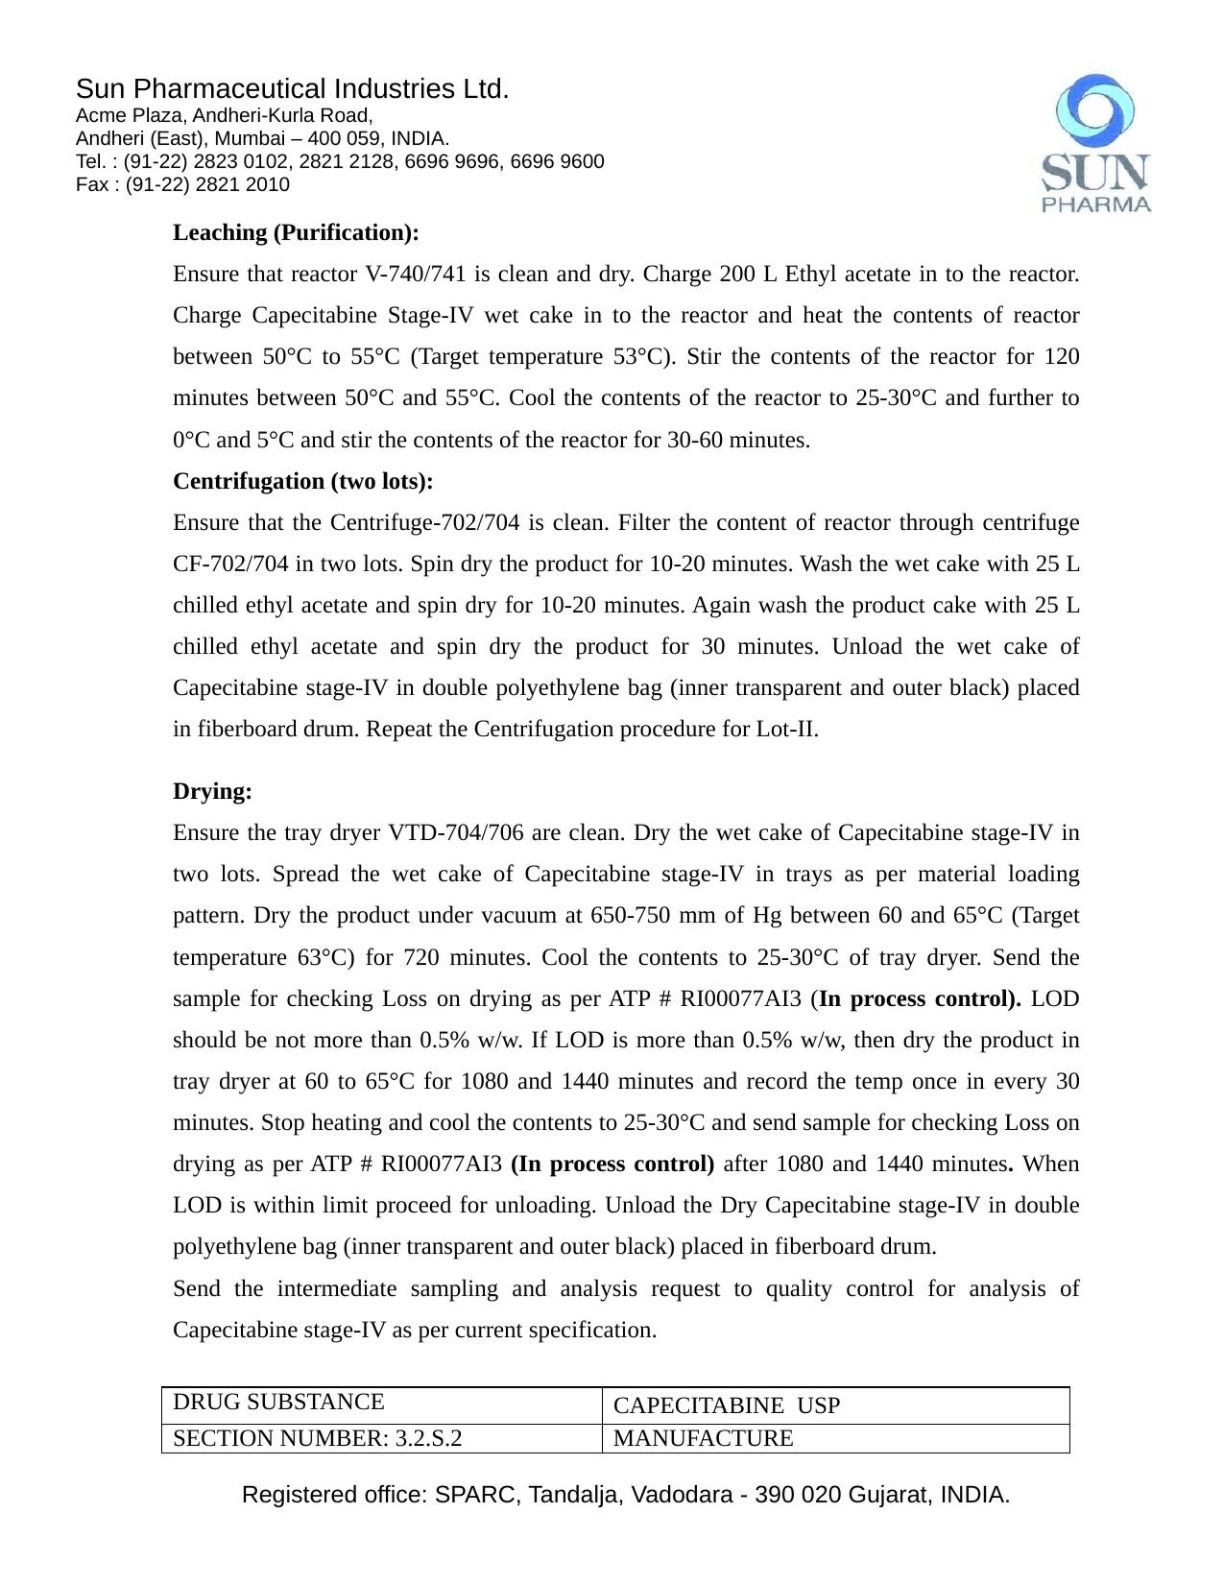full_lined: (161, 1386, 1071, 1454)
